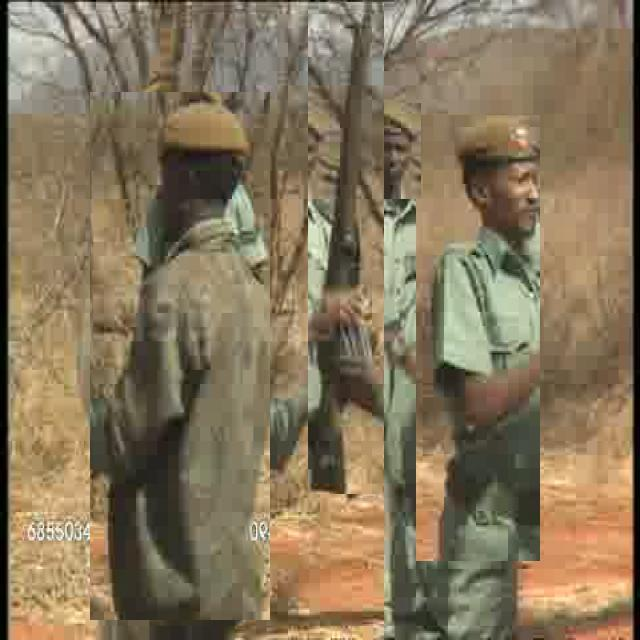poacher: (90, 92, 270, 620), (416, 116, 540, 562), (364, 103, 421, 199)
weapon: (308, 2, 384, 494)
